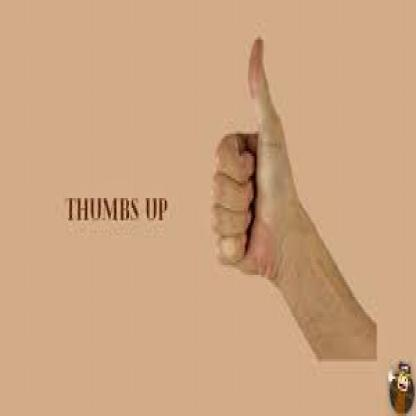thumb_up: (205, 29, 299, 284)
